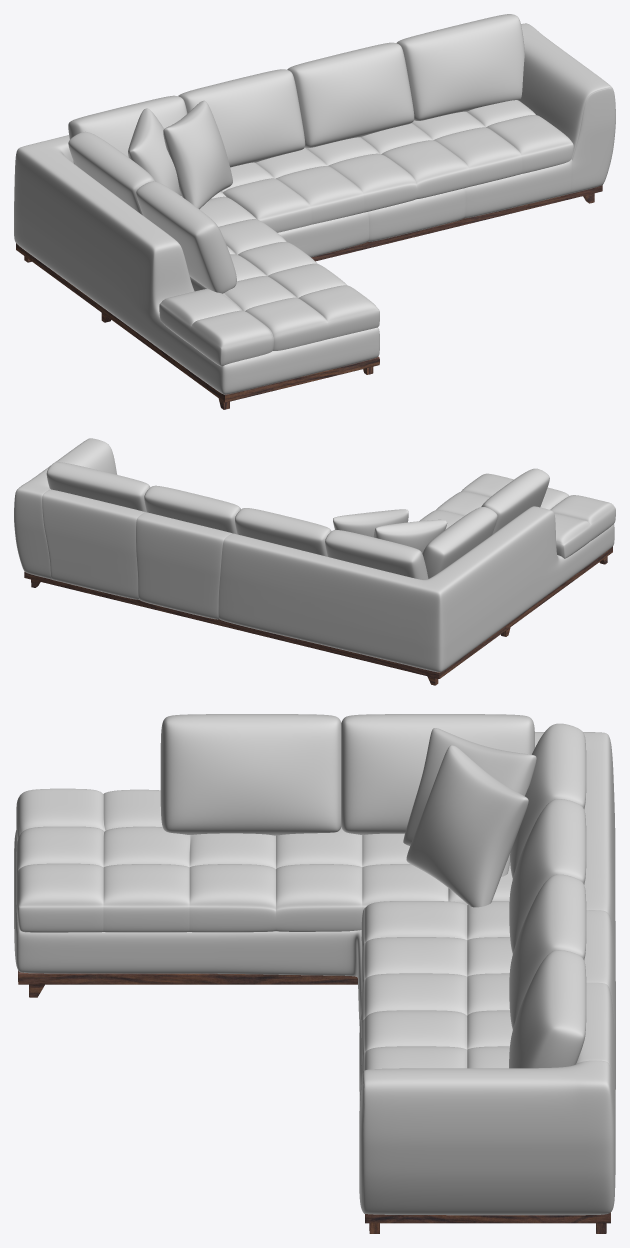
File: SBH_Senart_LHShape.glb
3 views of the same model, one above another, from view 1: azimuth 30°, elevation 25°; view 2: azimuth 150°, elevation 25°; view 3: azimuth 270°, elevation 25° (orthographic). The views are drawn at different scales.
Parts seen in each view (by area): view 1: Senart LHShape; view 2: Senart LHShape; view 3: Senart LHShape.
Part boxes in pixels (box(x1,y1,x2,y2)): Senart LHShape: box(14, 14, 615, 409); Senart LHShape: box(14, 438, 615, 685); Senart LHShape: box(14, 714, 615, 1233).
Size of the model in its own units: 3.41 by 0.9423 by 2.41.
2 materials, 1 textured.
